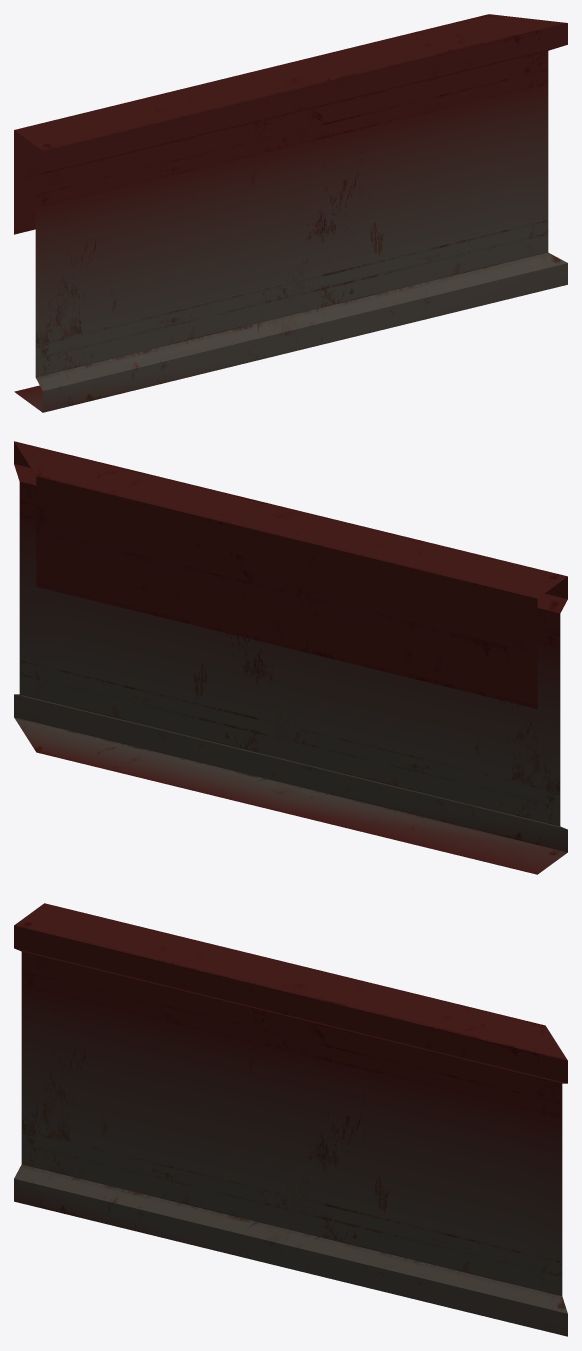
File: Cornice_Metal_R.gltf
3 renders of one model, top to bottom at view 1: azimuth 30°, elevation 25°; view 2: azimuth 150°, elevation 25°; view 3: azimuth 330°, elevation 25°, orthographic. The views are drawn at different scales.
Visible parts, largest first — view 1: Cornice_Metal_R; view 2: Cornice_Metal_R; view 3: Cornice_Metal_R.
Part boxes in pixels (x1,y1,x2,y2): Cornice_Metal_R: (14,14,567,412); Cornice_Metal_R: (14,441,567,874); Cornice_Metal_R: (14,903,567,1336).
Bounding box in the file's own units: 2.1 × 1 × 0.2.
1 material, 1 textured.
